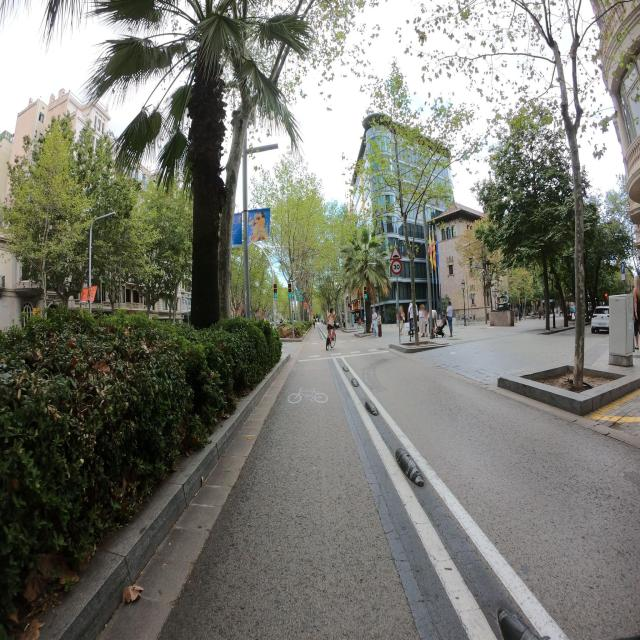bike: (324, 325, 338, 351)
car: (590, 304, 610, 334)
